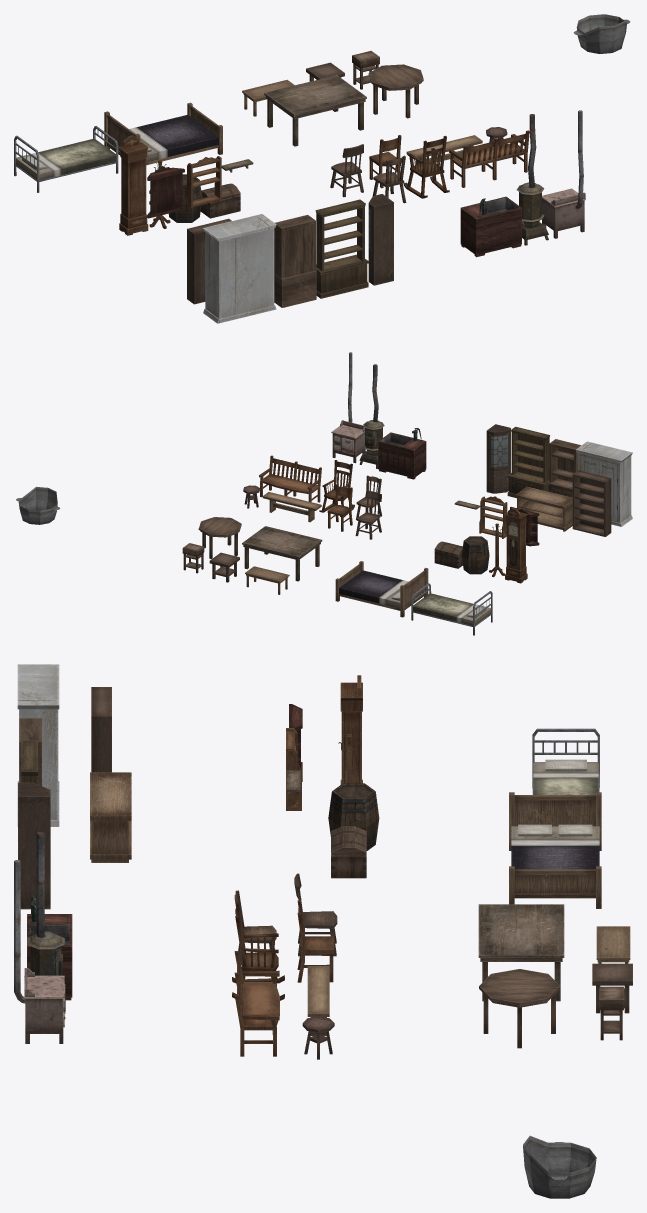
Rendered from Furniture_Single-Faced.fbx.
3 views of the same model, one above another, from view 1: azimuth 30°, elevation 25°; view 2: azimuth 150°, elevation 25°; view 3: azimuth 270°, elevation 25° (orthographic). The views are drawn at different scales.
Parts seen in each view (by area): view 1: Dresser, Bed_2, Bookshelf_3, Bookshelf_2, Bed_1, Table_2, Sink, Grandfather.Clock, Corner.Shelf, Stove, Bench_1, Bathtub (+15 smaller); view 2: Bed_2, Dresser, Bookshelf_3, Bookshelf_1, Bed_1, Sink, Table_2, Counter, Bench_1, Corner.Shelf, Grandfather.Clock, Bookshelf_2 (+16 smaller); view 3: Bed_2, Table_2, Dresser, Counter, Bathtub, Stove, Corner.Shelf, Bed_1, Table_1, Bench_1, Oven, Barrel (+15 smaller).
Boxes of the visible parts, bbox=[...] form: Dresser: bbox=[203, 214, 276, 323]; Bed_2: bbox=[104, 102, 222, 165]; Bookshelf_3: bbox=[315, 199, 368, 298]; Bookshelf_2: bbox=[274, 215, 316, 307]; Bed_1: bbox=[14, 126, 118, 192]; Table_2: bbox=[264, 75, 366, 146]; Sink: bbox=[460, 196, 521, 257]; Grandfather.Clock: bbox=[119, 135, 148, 235]; Corner.Shelf: bbox=[368, 194, 393, 285]; Stove: bbox=[542, 110, 585, 238]; Bench_1: bbox=[449, 130, 529, 187]; Bathtub: bbox=[573, 14, 630, 53]; Bed_2: bbox=[335, 561, 428, 617]; Dresser: bbox=[576, 441, 632, 526]; Bookshelf_3: bbox=[507, 426, 550, 498]; Bookshelf_1: bbox=[572, 470, 611, 536]; Bed_1: bbox=[411, 583, 492, 635]; Sink: bbox=[378, 428, 426, 479]; Table_2: bbox=[242, 526, 322, 581]; Counter: bbox=[515, 486, 572, 531]; Bench_1: bbox=[259, 455, 321, 502]; Corner.Shelf: bbox=[486, 424, 510, 493]; Grandfather.Clock: bbox=[504, 508, 527, 583]; Bookshelf_2: bbox=[548, 439, 580, 497]; Bed_2: bbox=[509, 792, 601, 908]; Table_2: bbox=[478, 904, 564, 1001]; Dresser: bbox=[17, 664, 59, 826]; Counter: bbox=[90, 772, 131, 862]; Bathtub: bbox=[523, 1135, 596, 1198]; Stove: bbox=[14, 860, 65, 1043]; Corner.Shelf: bbox=[18, 782, 50, 909]; Bed_1: bbox=[532, 728, 599, 794]; Table_1: bbox=[479, 969, 560, 1048]; Bench_1: bbox=[234, 951, 279, 1056]; Oven: bbox=[27, 832, 65, 1018]; Barrel: bbox=[328, 783, 379, 850].
Bounding box in the file's own units: 1518 × 302 × 946.
